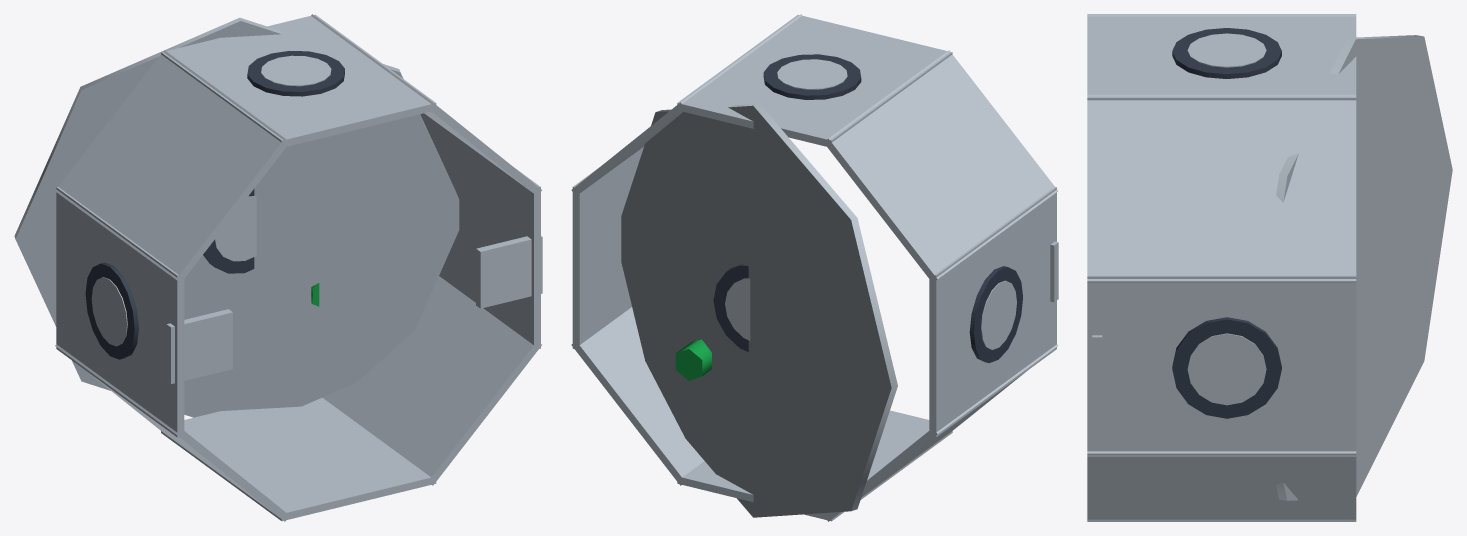
3 renders of one model, left to right at view 1: azimuth 30°, elevation 25°; view 2: azimuth 150°, elevation 25°; view 3: azimuth 270°, elevation 25°, orthographic. The views are drawn at different scales.
Visible parts, largest first — view 1: cad-box-4-oct-2.125; view 2: cad-box-4-oct-2.125; view 3: cad-box-4-oct-2.125.
Boxes of the visible parts, x1,y1,x2,y2 form: cad-box-4-oct-2.125: [14, 14, 542, 521]; cad-box-4-oct-2.125: [571, 14, 1058, 521]; cad-box-4-oct-2.125: [1087, 14, 1452, 521].
Size of the model in its own units: 0.0965 by 0.1016 by 0.0733.
